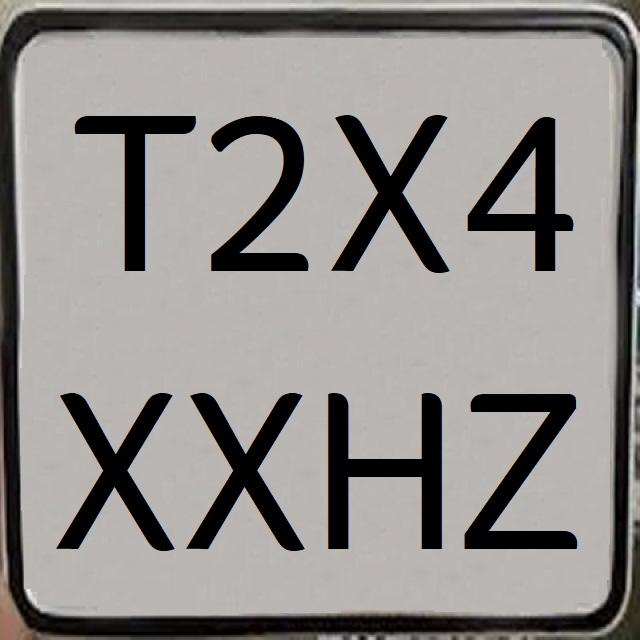4: (467, 93, 579, 282)
H: (324, 373, 452, 561)
T: (70, 88, 194, 291)
X: (48, 371, 178, 564), (185, 374, 309, 566), (329, 97, 451, 282)
Z: (465, 367, 586, 559)
